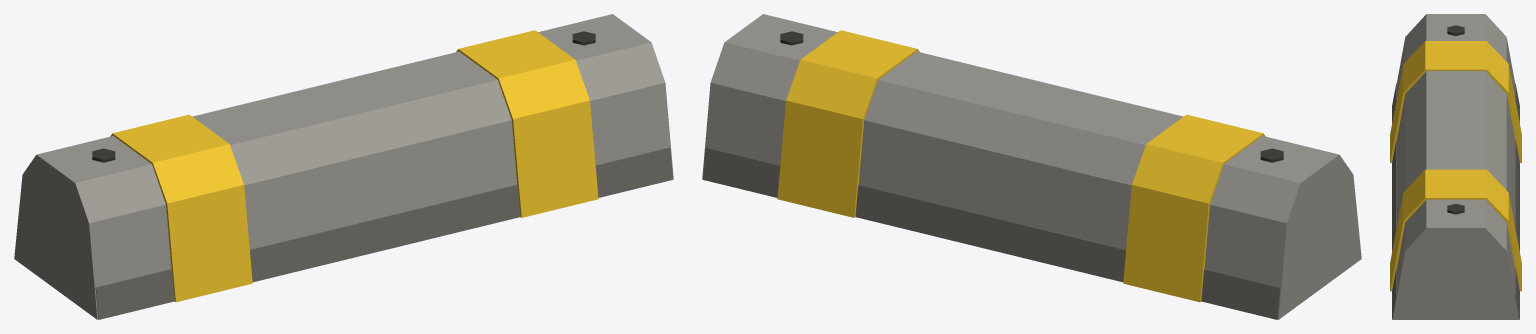
Rendered from car_stop.glb.
3 views of the same model, side by side, from view 1: azimuth 30°, elevation 25°; view 2: azimuth 150°, elevation 25°; view 3: azimuth 270°, elevation 25° (orthographic). The views are drawn at different scales.
Parts seen in each view (by area): view 1: car_stop; view 2: car_stop; view 3: car_stop.
Part boxes in pixels (bbox=[...]): car_stop: bbox=[14, 14, 673, 319]; car_stop: bbox=[702, 14, 1361, 319]; car_stop: bbox=[1390, 14, 1521, 319].
Bounding box in the file's own units: 0.6 × 0.123 × 0.156.
